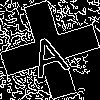A: (25, 25, 71, 79)
